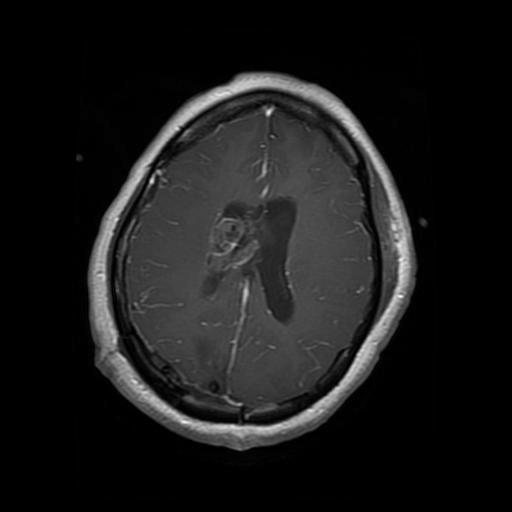Tumour-Glioma: (209, 205, 263, 269)
